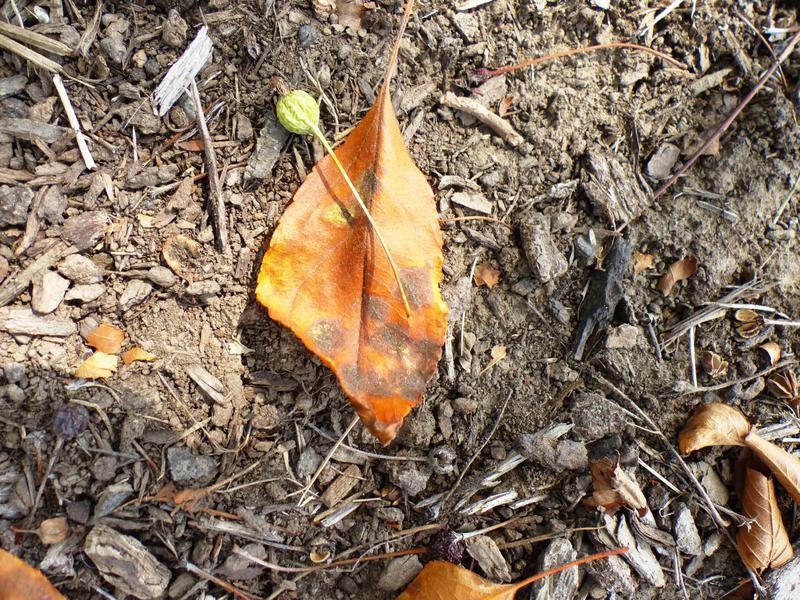leaf: (246, 34, 472, 449), (726, 458, 800, 584), (669, 396, 757, 459)
